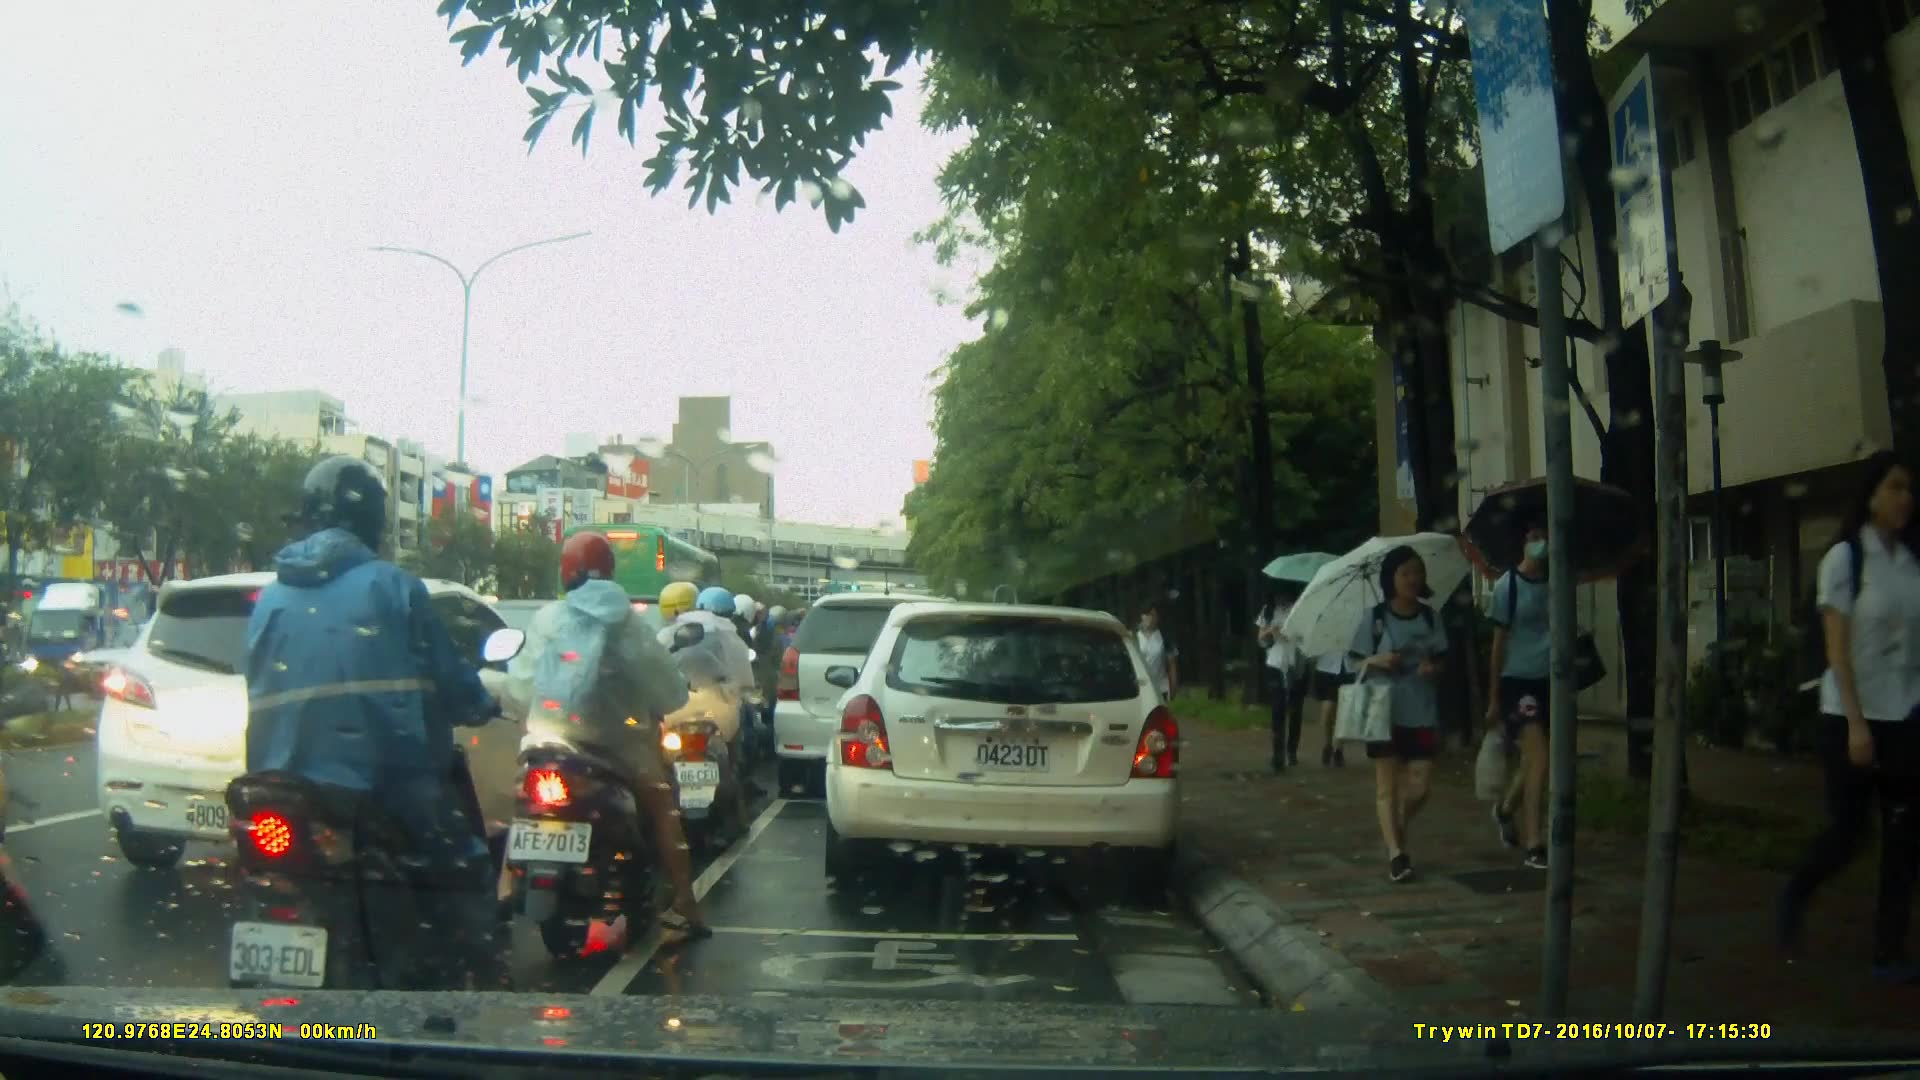pedestrian: (1772, 444, 1905, 968), (1476, 500, 1609, 871), (1330, 534, 1464, 898), (1258, 569, 1314, 773), (1312, 563, 1362, 778), (1124, 593, 1185, 766)
rider: (212, 457, 498, 1041), (498, 531, 732, 949), (630, 587, 771, 853), (671, 593, 764, 792)
vehicle: (93, 569, 614, 883), (822, 604, 1187, 883), (774, 595, 995, 802), (565, 523, 745, 661), (20, 576, 199, 697)
